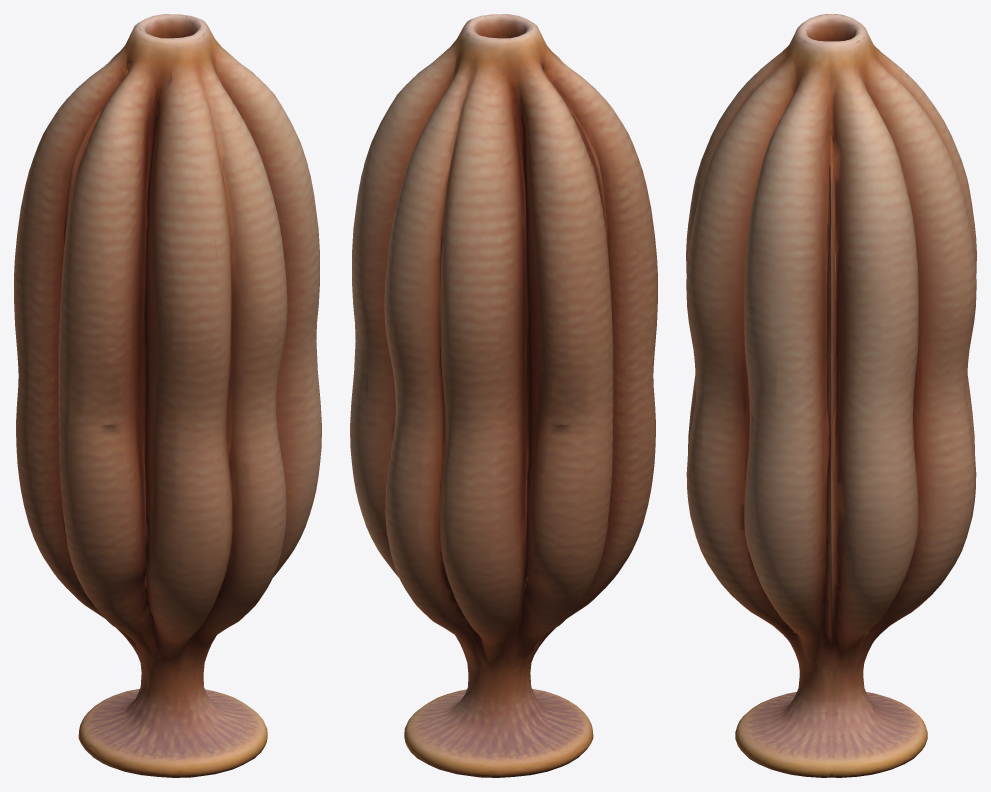
3 renders of one model, left to right at view 1: azimuth 30°, elevation 25°; view 2: azimuth 150°, elevation 25°; view 3: azimuth 270°, elevation 25°, orthographic.
Parts seen in each view (by area): view 1: world; view 2: world; view 3: world.
Part boxes in pixels (box(x1,y1,x2,y2)): world: box(14, 14, 321, 777); world: box(350, 14, 657, 777); world: box(686, 14, 976, 777).
Bounding box in the file's own units: 0.0517 × 0.14 × 0.0517.
Materials: 1 (1 with a texture image).
